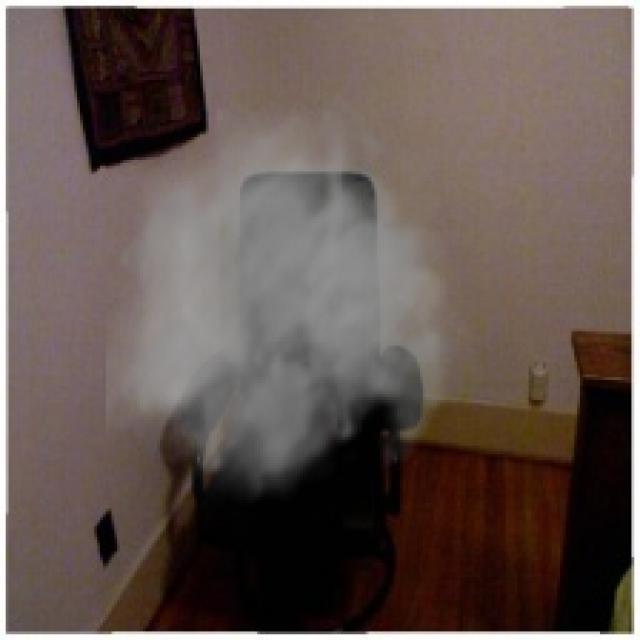smoke: (106, 91, 486, 508)
